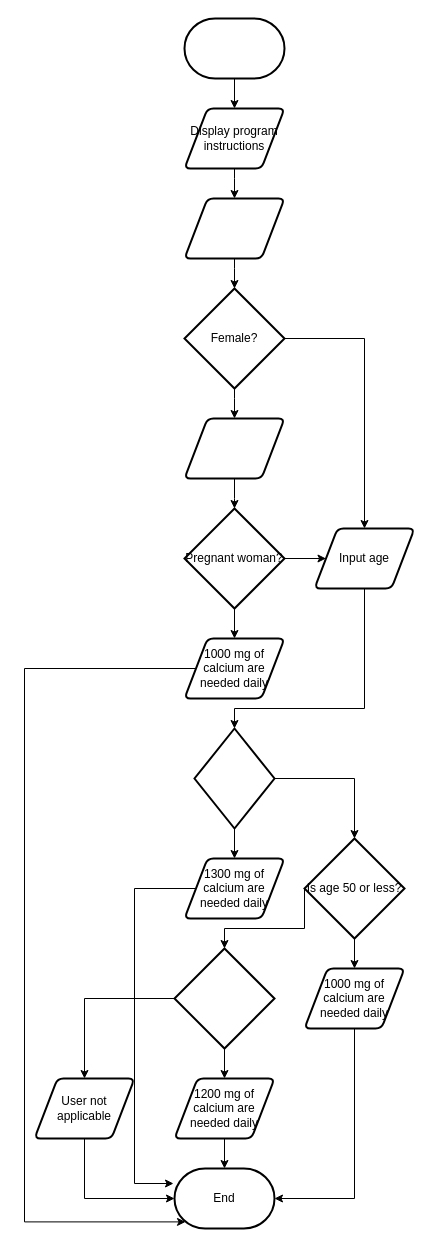
The diagram is 433 pixels wide and 1247 high, and some of its shapes have lost their labels. The centre of each missing label's shape, as x and y in pixels:
"Input gender" belongs at pixel 234 228.
"Input pregnancy confirmation" belongs at pixel 234 448.
"Is age 18 or less?" belongs at pixel 234 778.
"Is age 70 or less?" belongs at pixel 224 998.
"Start" belongs at pixel 234 48.
